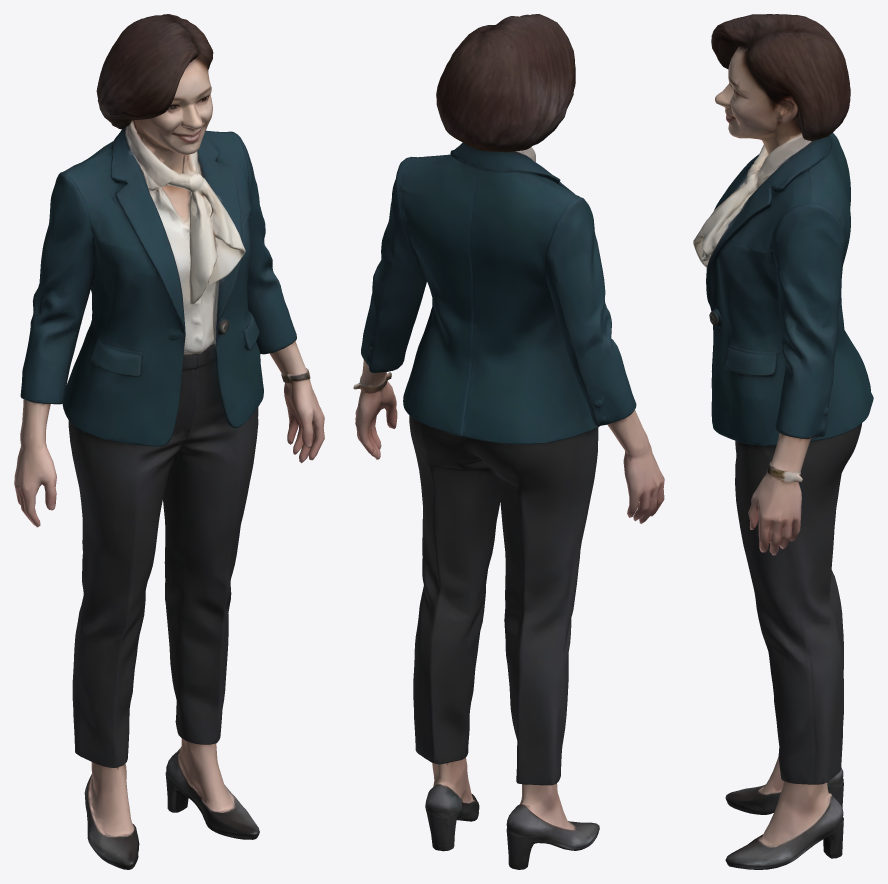
Rendered from npc_mei.glb.
3 renders of one model, left to right at view 1: azimuth 30°, elevation 25°; view 2: azimuth 150°, elevation 25°; view 3: azimuth 270°, elevation 25°, orthographic.
Parts seen in each view (by area): view 1: tripo_node_e8c38ad4-9a50-4cdb-a85e-46114ecb7918; view 2: tripo_node_e8c38ad4-9a50-4cdb-a85e-46114ecb7918; view 3: tripo_node_e8c38ad4-9a50-4cdb-a85e-46114ecb7918.
Boxes of the visible parts, x1=… form: tripo_node_e8c38ad4-9a50-4cdb-a85e-46114ecb7918: x1=14, y1=14, x2=324, y2=869; tripo_node_e8c38ad4-9a50-4cdb-a85e-46114ecb7918: x1=353, y1=14, x2=664, y2=869; tripo_node_e8c38ad4-9a50-4cdb-a85e-46114ecb7918: x1=693, y1=14, x2=873, y2=869.
Bounding box in the file's own units: 0.6668 × 1.72 × 0.3431.
1 material, 1 textured.
